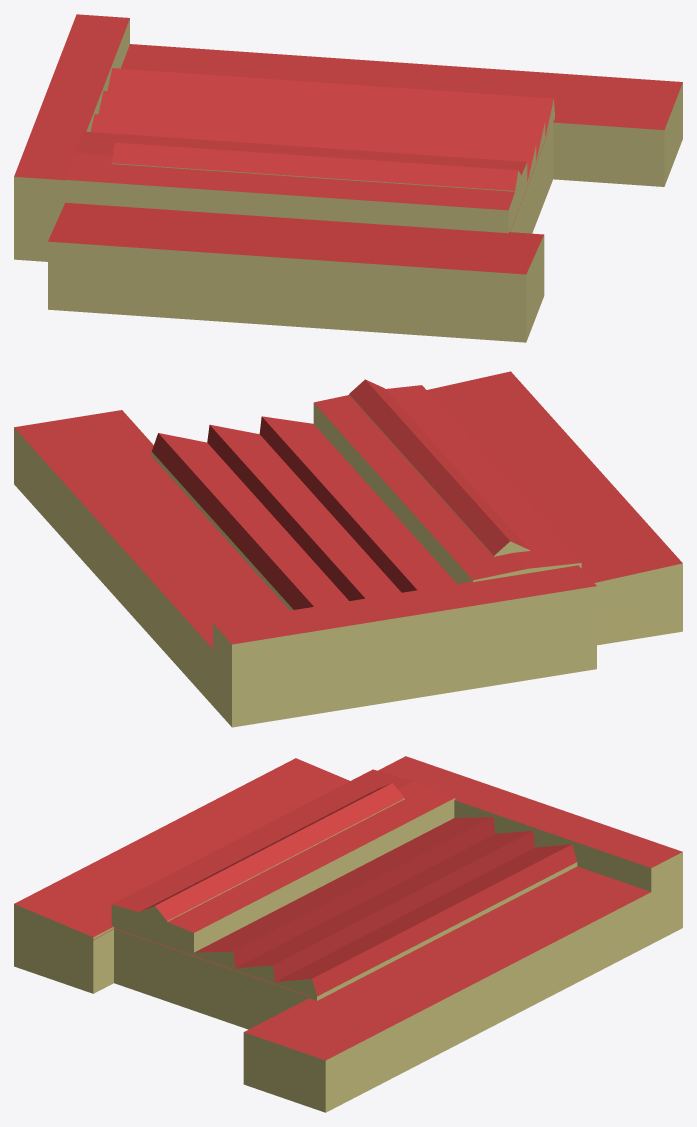
3 renders of one model, top to bottom at view 1: azimuth 30°, elevation 25°; view 2: azimuth 150°, elevation 25°; view 3: azimuth 270°, elevation 25°, orthographic. The views are drawn at different scales.
Bounding box in the file's own units: 123 × 119 × 17.88.
